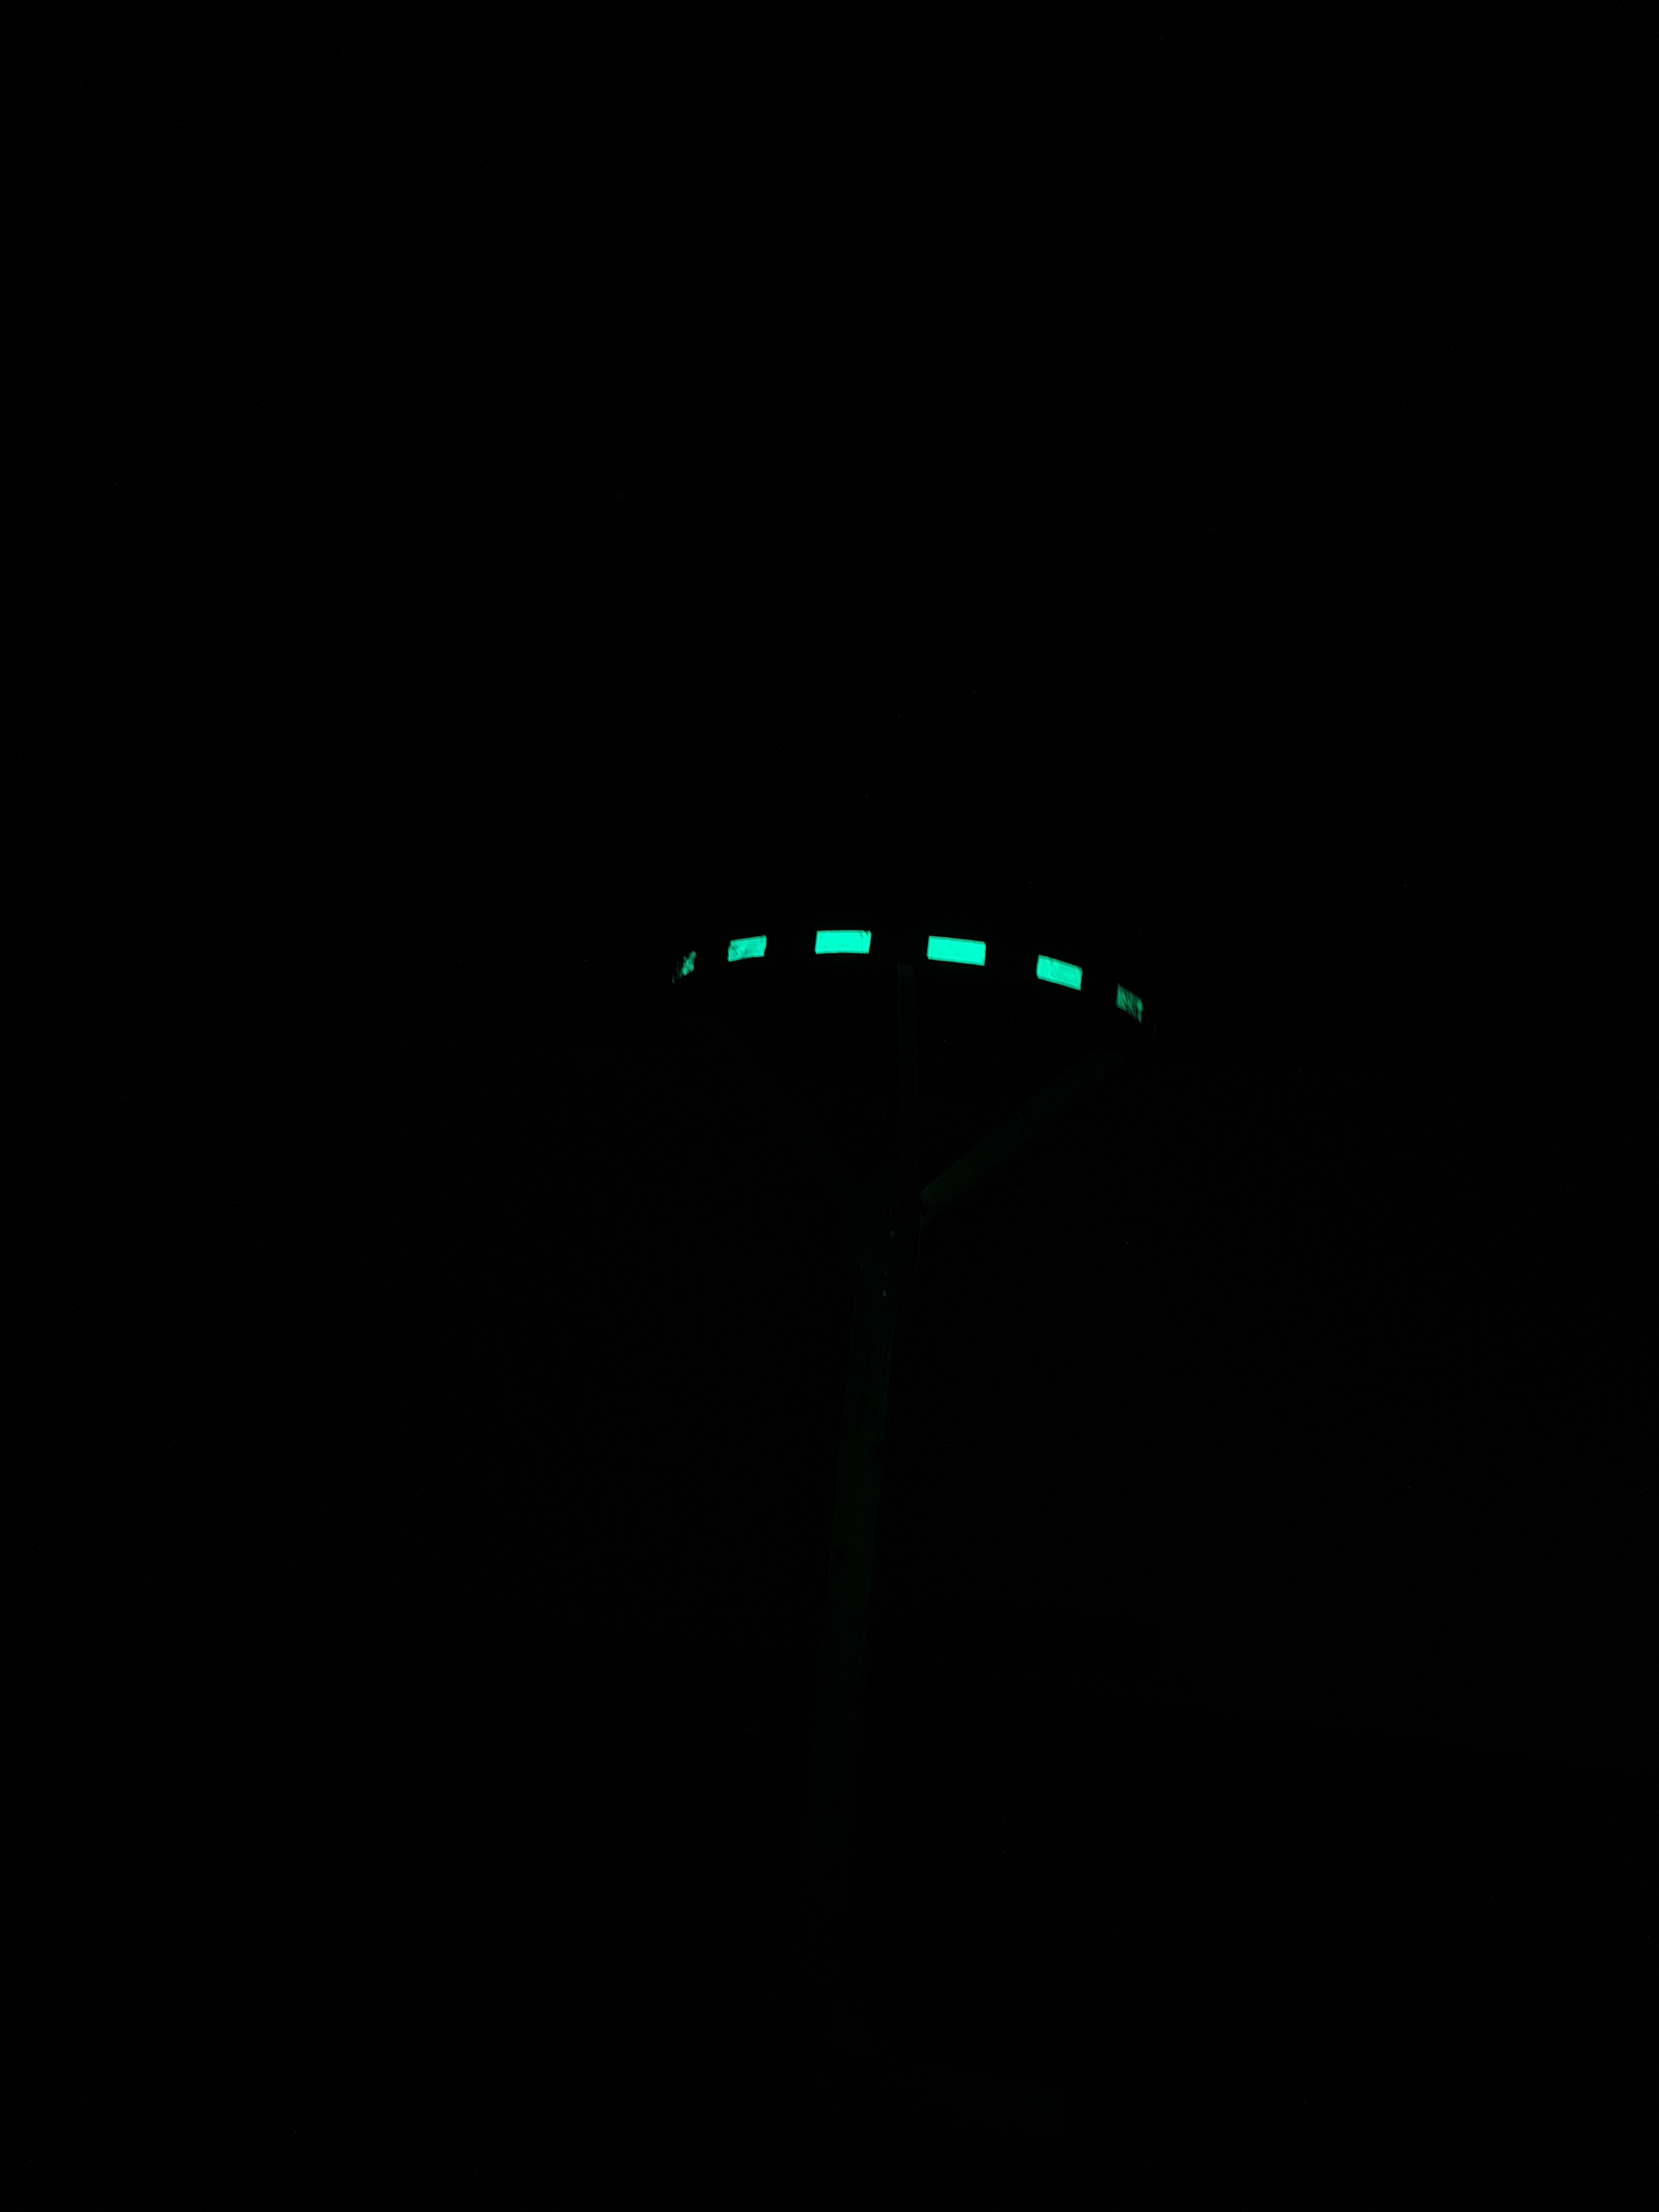hoop: (662, 906, 1162, 1045)
